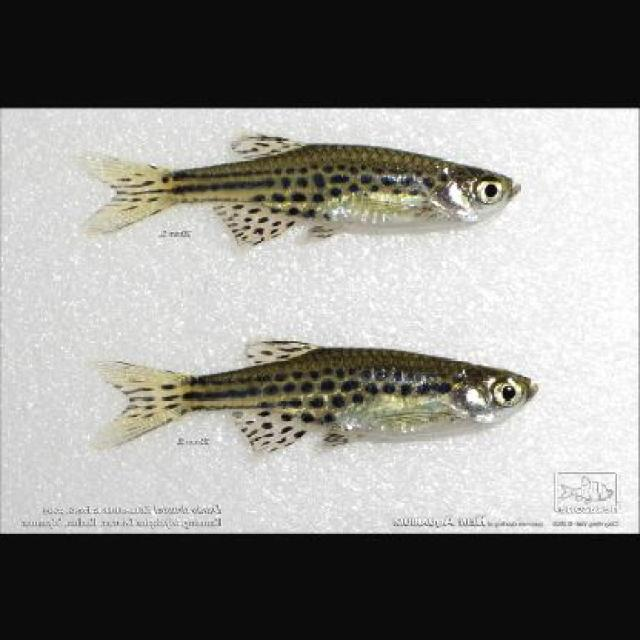ZebraFish: (91, 332, 543, 446), (76, 130, 524, 244)
